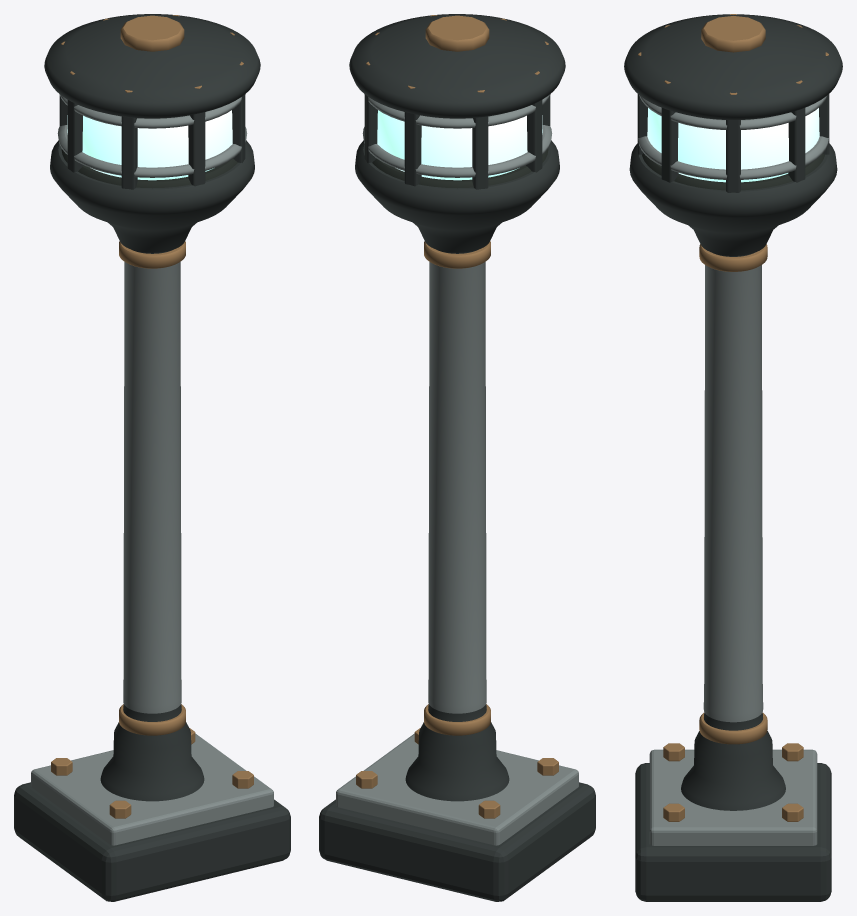
The model's file is checkpoint-lamp.glb.
3 views of the same model, side by side, from view 1: azimuth 30°, elevation 25°; view 2: azimuth 150°, elevation 25°; view 3: azimuth 270°, elevation 25° (orthographic).
Parts seen in each view (by area): view 1: Black enamel casting, Brushed zinc, Tarnished bronze fasteners, Jade opal glass, Black rubber seals; view 2: Black enamel casting, Brushed zinc, Tarnished bronze fasteners, Jade opal glass, Black rubber seals; view 3: Black enamel casting, Brushed zinc, Tarnished bronze fasteners, Jade opal glass, Black rubber seals.
Part boxes in pixels (left/top/right/bottom): Black enamel casting: left=14, top=14, right=290, bottom=901; Brushed zinc: left=31, top=94, right=273, bottom=845; Tarnished bronze fasteners: left=51, top=15, right=253, bottom=818; Jade opal glass: left=67, top=110, right=232, bottom=180; Black rubber seals: left=61, top=149, right=237, bottom=188; Black enamel casting: left=319, top=14, right=595, bottom=901; Brushed zinc: left=336, top=94, right=578, bottom=845; Tarnished bronze fasteners: left=356, top=15, right=558, bottom=818; Jade opal glass: left=377, top=110, right=542, bottom=180; Black rubber seals: left=372, top=149, right=548, bottom=188; Black enamel casting: left=624, top=14, right=842, bottom=901; Brushed zinc: left=638, top=95, right=828, bottom=845; Tarnished bronze fasteners: left=638, top=14, right=828, bottom=821; Jade opal glass: left=647, top=108, right=819, bottom=182; Black rubber seals: left=642, top=153, right=824, bottom=190.
Bounding box in the file's own units: 0.355 × 1.48 × 0.354.
